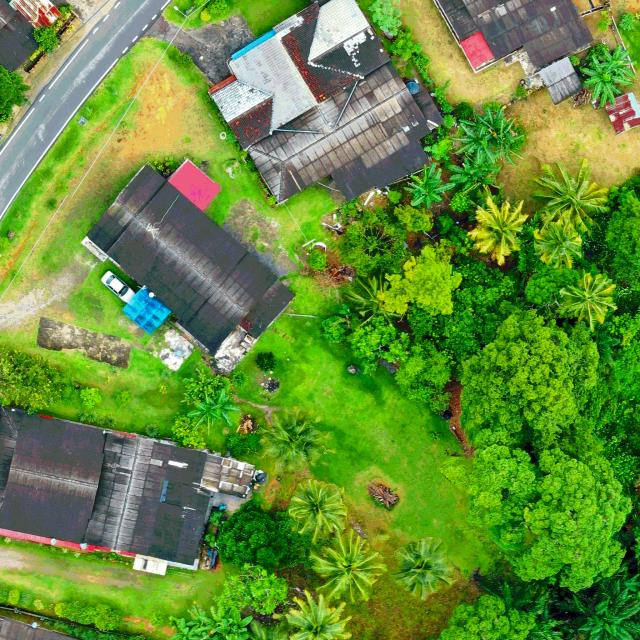Tree: (498, 436, 633, 593), (457, 304, 601, 448), (409, 260, 515, 356), (214, 499, 310, 575), (560, 558, 640, 639), (531, 158, 610, 233), (310, 528, 387, 604), (439, 591, 538, 640), (403, 240, 464, 315), (257, 408, 330, 470), (276, 588, 356, 640), (391, 535, 454, 601), (0, 348, 63, 414), (471, 194, 530, 264), (212, 563, 290, 615), (287, 478, 348, 544), (341, 272, 412, 327), (471, 442, 537, 498), (558, 272, 618, 326), (581, 55, 635, 108), (534, 220, 586, 270), (188, 388, 240, 436), (473, 104, 518, 158), (405, 162, 456, 209), (446, 154, 499, 195), (448, 122, 494, 164), (0, 63, 31, 125), (597, 44, 638, 84), (392, 204, 434, 234), (32, 24, 60, 54), (449, 191, 473, 214)
